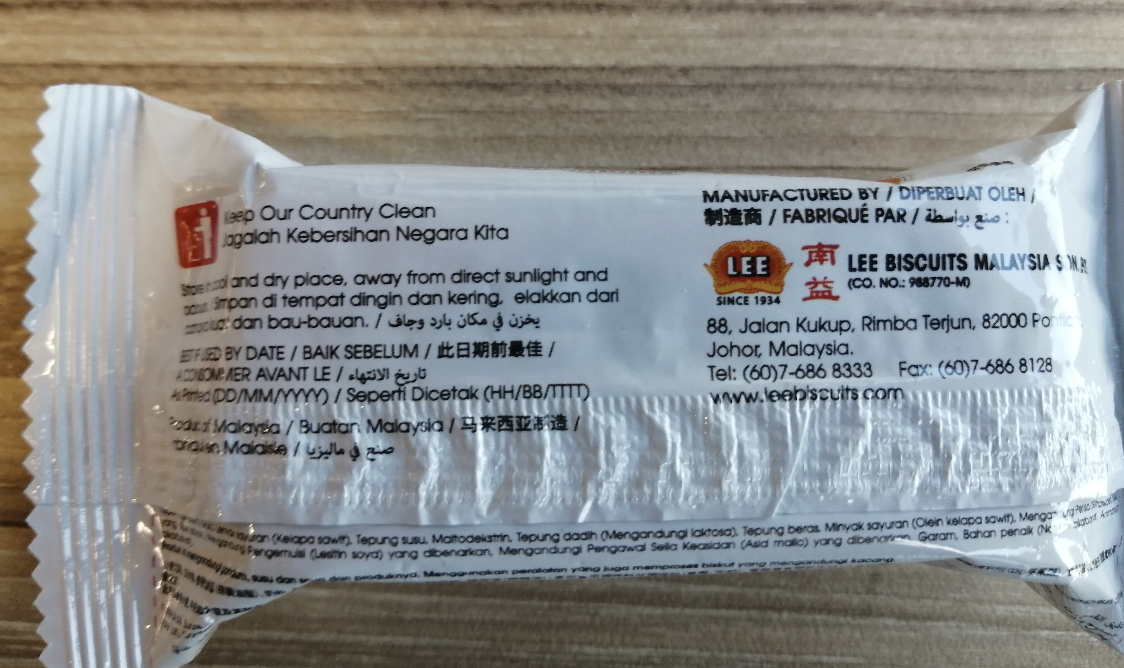Wafers: (82, 183, 1105, 539)
